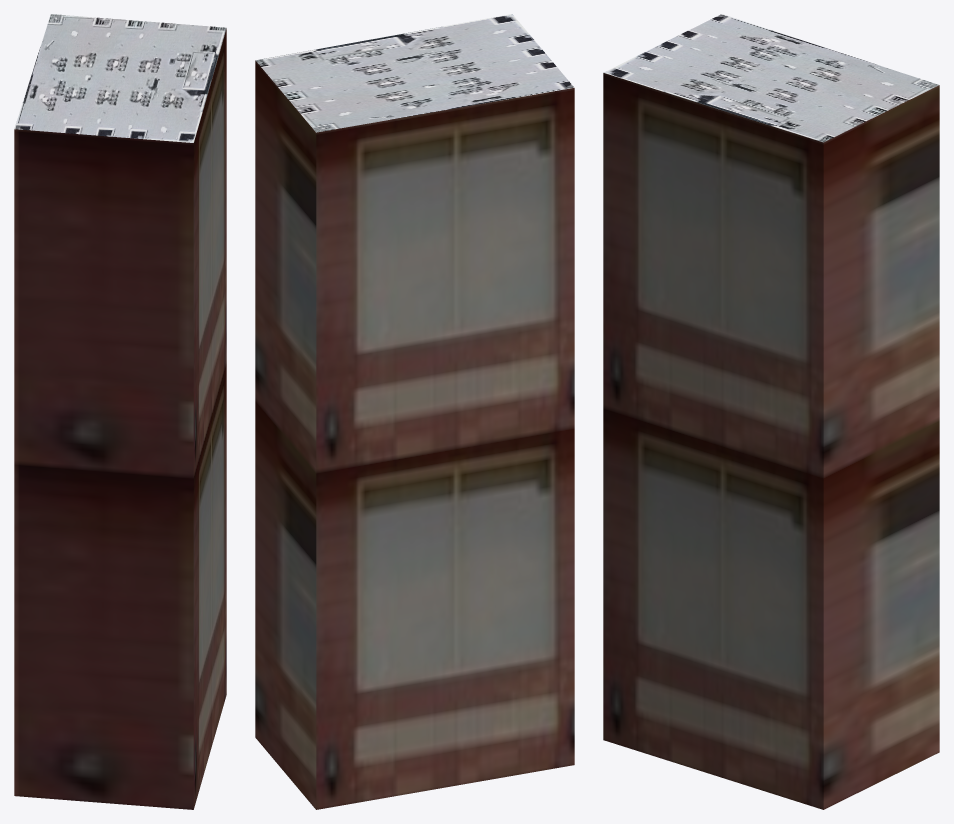
File: ResTex__2197.fbx
3 views of the same model, side by side, from view 1: azimuth 30°, elevation 25°; view 2: azimuth 150°, elevation 25°; view 3: azimuth 270°, elevation 25° (orthographic).
Visible parts, largest first — view 1: CityEngineMaterial_13_m, CityEngineMaterial_m; view 2: CityEngineMaterial_13_m, CityEngineMaterial_m; view 3: CityEngineMaterial_13_m, CityEngineMaterial_m.
Boxes of the visible parts, <box> form: CityEngineMaterial_13_m: <box>14,28,226,809</box>; CityEngineMaterial_m: <box>14,14,226,142</box>; CityEngineMaterial_13_m: <box>255,60,574,809</box>; CityEngineMaterial_m: <box>256,14,574,132</box>; CityEngineMaterial_13_m: <box>603,73,939,809</box>; CityEngineMaterial_m: <box>604,14,938,142</box>.
Bounding box in the file's own units: 2.48 × 6 × 2.74.
2 materials, 2 textured.
